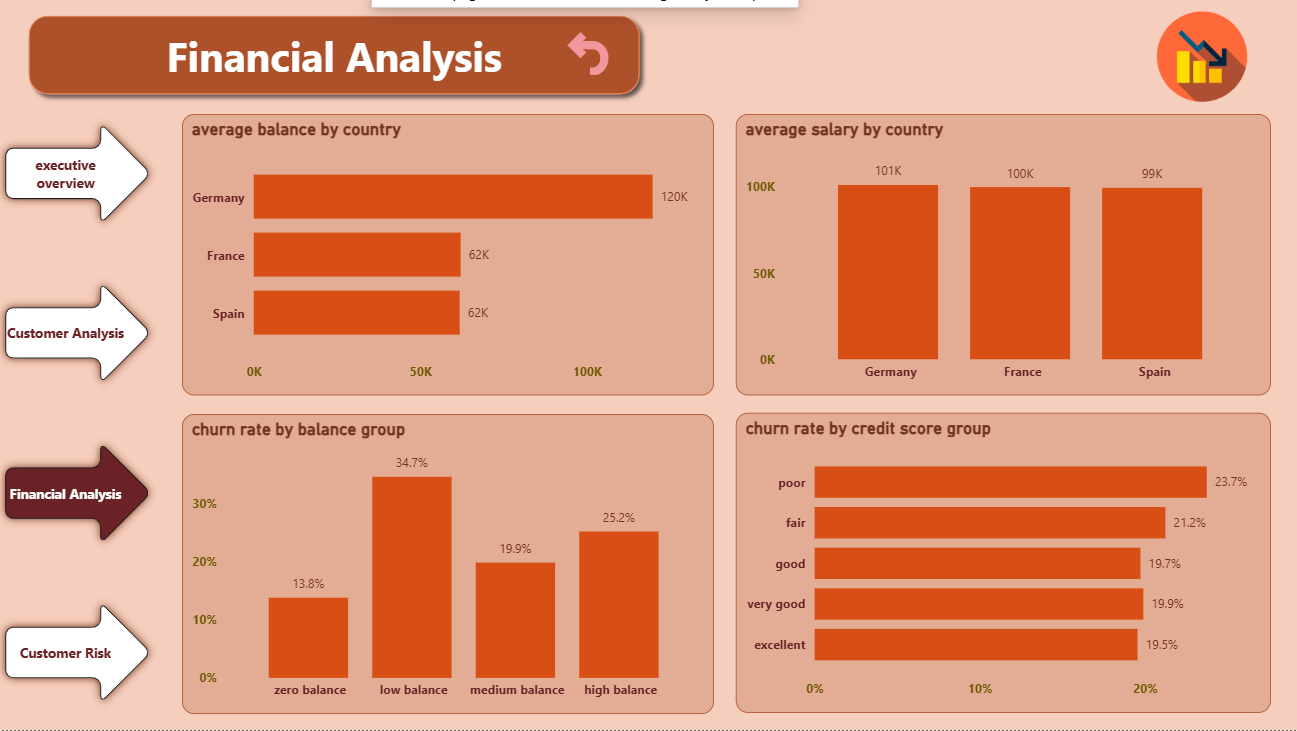

The dashboard page shown, as its layout file describes it:
{"tool":"powerbi","page":{"name":"Financial Analysis","canvas":[1280,720],"ordinal":3},"visuals":[{"type":"shape","box":[21.6,7.2,618.9,95.2],"z":0},{"type":"clusteredBarChart","title":"average balance by country","fields":{"Category":["Churn_Modelling.Geography"],"Y":["Avg(Churn_Modelling.Balance)"]},"box":[181.7,113.3,523.3,276.7],"z":1000},{"type":"clusteredColumnChart","title":"average salary by country","fields":{"Y":["Avg(Churn_Modelling.EstimatedSalary)"],"Category":["Churn_Modelling.Geography"]},"box":[726.7,113.3,526.7,276.7],"z":2000},{"type":"clusteredColumnChart","title":"churn rate by balance group","fields":{"Y":["Churn_Modelling.churn rate"],"Category":["Churn_Modelling.balance group"]},"box":[181.7,408.3,523.3,295],"z":3000},{"type":"clusteredBarChart","title":"churn rate by credit score group","fields":{"Category":["Churn_Modelling.credit score group"],"Y":["Churn_Modelling.churn rate"]},"box":[726.7,406.7,526.7,295],"z":4000},{"type":"pageNavigator","box":[0,113.3,160,591.7],"z":5000},{"type":"actionButton","box":[549.7,28.9,64.9,50.5],"z":6000}]}

Visuals, with their boxes in screenshot pixels (x1, y1, x2, y2), scaled from the page's 1280x720 canvas onto the 1297x731 screenshot:
shape: bbox=[22, 7, 649, 104]
"average balance by country" clusteredBarChart: bbox=[184, 115, 714, 396]
"average salary by country" clusteredColumnChart: bbox=[736, 115, 1270, 396]
"churn rate by balance group" clusteredColumnChart: bbox=[184, 415, 714, 714]
"churn rate by credit score group" clusteredBarChart: bbox=[736, 413, 1270, 712]
pageNavigator: bbox=[0, 115, 162, 716]
actionButton: bbox=[557, 29, 623, 81]
